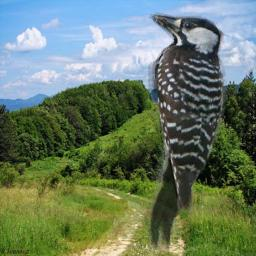Woodpecker: (145, 9, 229, 250)
